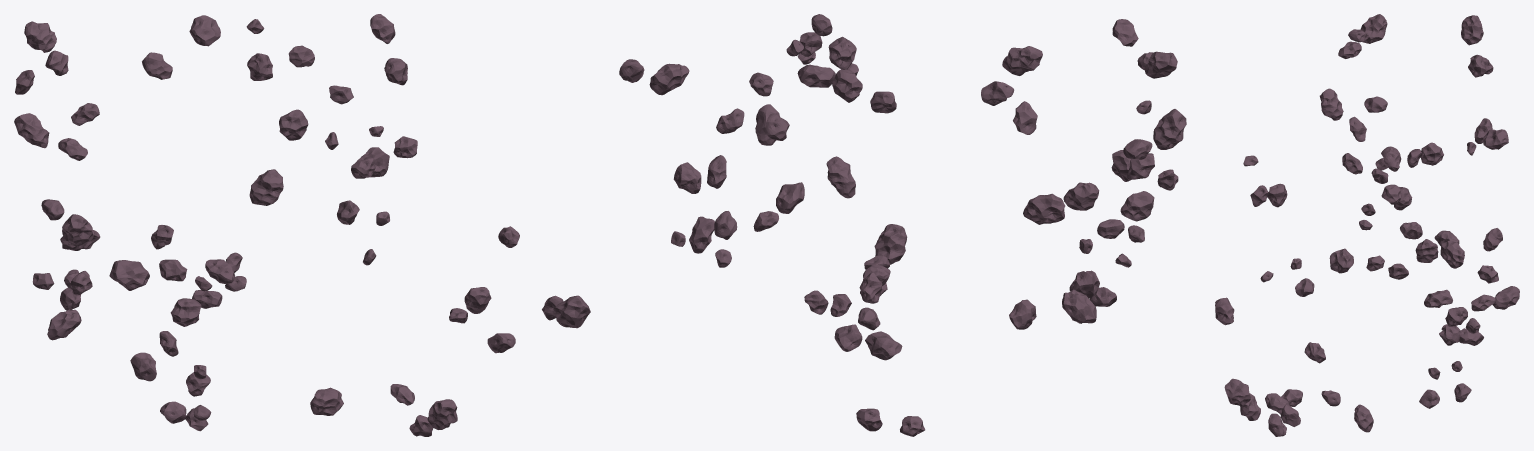
The model's file is FlyingRocks.fbx.
The picture shows the model from 3 angles, left to right: view 1: azimuth 30°, elevation 25°; view 2: azimuth 150°, elevation 25°; view 3: azimuth 270°, elevation 25°; orthographic projection. The views are drawn at different scales.
Parts seen in each view (by area): view 1: Cube.003; view 2: Cube.003; view 3: Cube.003.
Boxes of the visible parts, x1,y1,x2,y2 form: Cube.003: (14,14,590,436); Cube.003: (619,14,1186,436); Cube.003: (1215,14,1519,436).
Size of the model in its own units: 11728 by 9610 by 7848.
